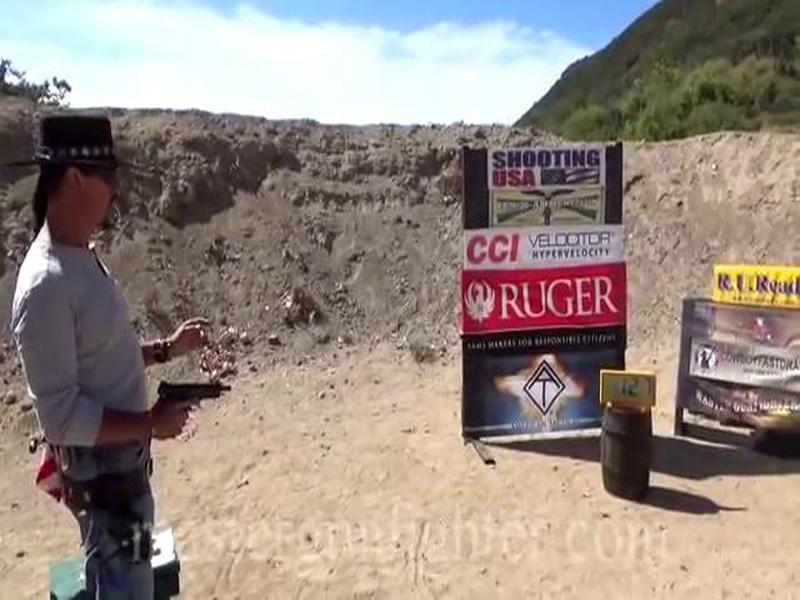Pistola: (146, 375, 234, 443)
